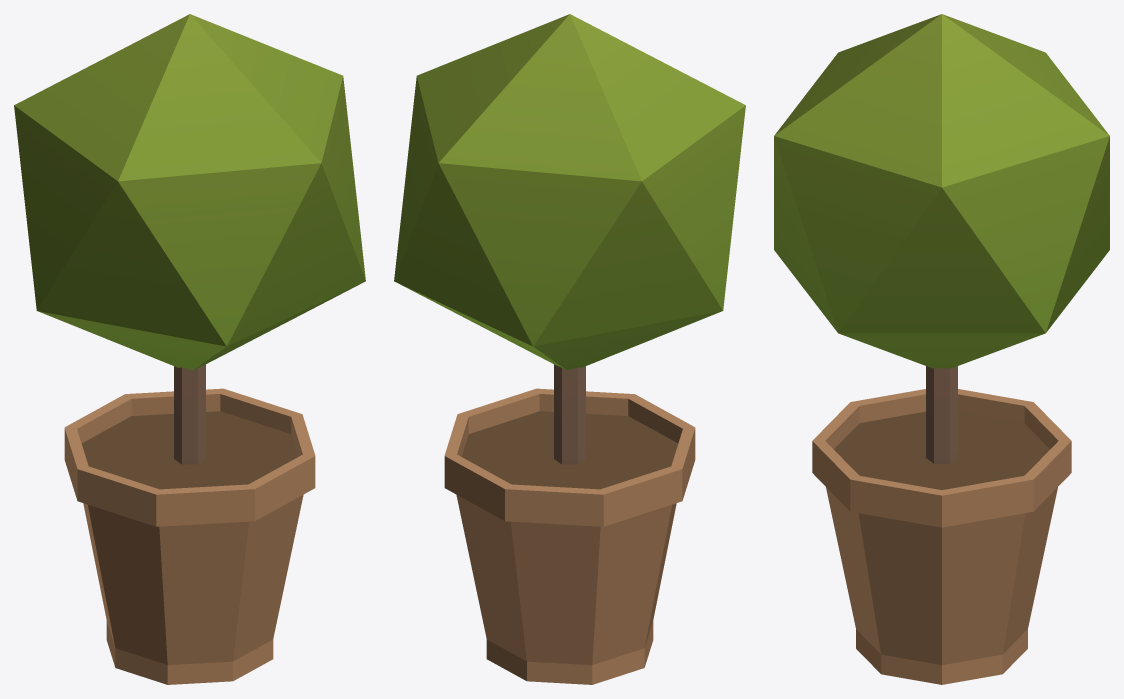
File: Pot_03.fbx
3 renders of one model, left to right at view 1: azimuth 30°, elevation 25°; view 2: azimuth 150°, elevation 25°; view 3: azimuth 270°, elevation 25°, orthographic.
Parts seen in each view (by area): view 1: Pot_03; view 2: Pot_03; view 3: Pot_03.
Boxes of the visible parts, <box> form: Pot_03: <box>14,14,365,684</box>; Pot_03: <box>394,14,745,684</box>; Pot_03: <box>774,14,1109,684</box>.
Size of the model in its own units: 52.83 by 105 by 50.25.
